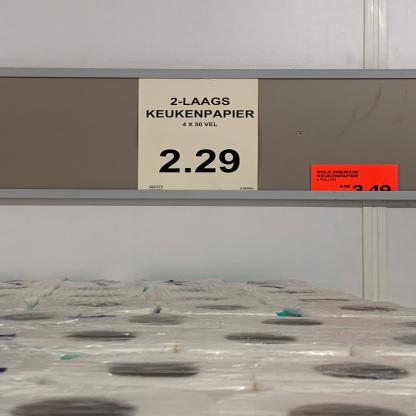prtg: (138, 79, 400, 192)
